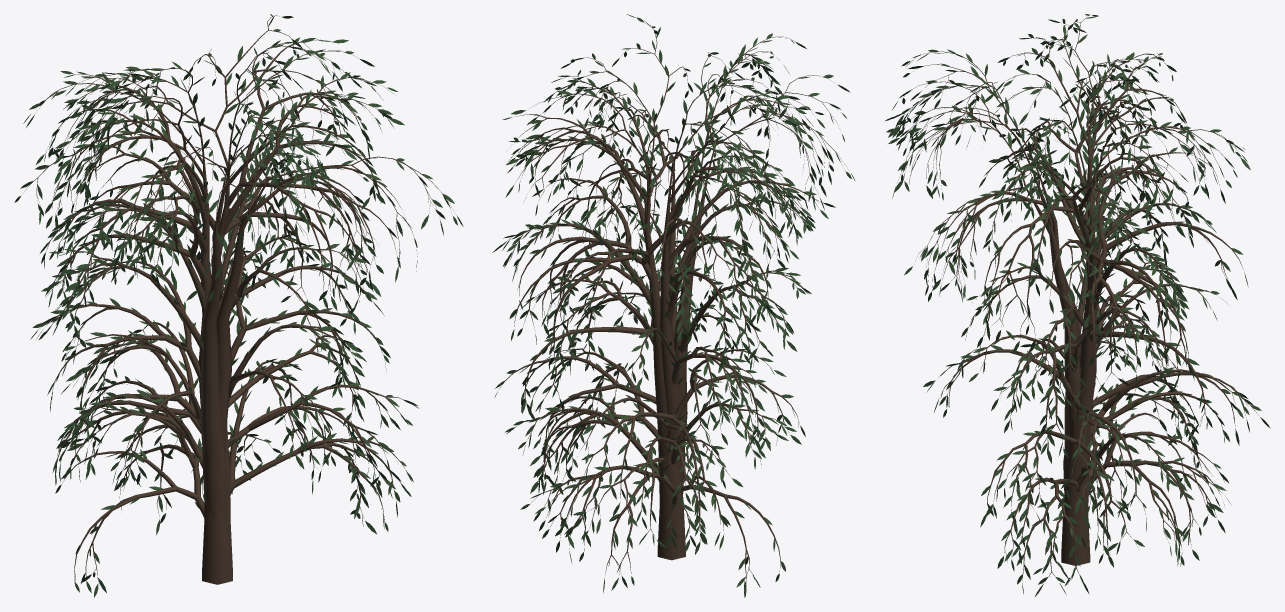
Rendered from Tree_07.fbx.
3 renders of one model, left to right at view 1: azimuth 30°, elevation 25°; view 2: azimuth 150°, elevation 25°; view 3: azimuth 270°, elevation 25°, orthographic. The views are drawn at different scales.
Visible parts, largest first — view 1: Tree_07, leaves_07; view 2: Tree_07, leaves_07; view 3: Tree_07, leaves_07.
Part boxes in pixels (x1,y1,x2,y2): Tree_07: (24,15,453,584); leaves_07: (14,14,463,597); Tree_07: (499,20,846,581); leaves_07: (492,14,855,597); Tree_07: (897,15,1258,581); leaves_07: (885,14,1270,596).
Size of the model in its own units: 1217 by 1964 by 1332.
